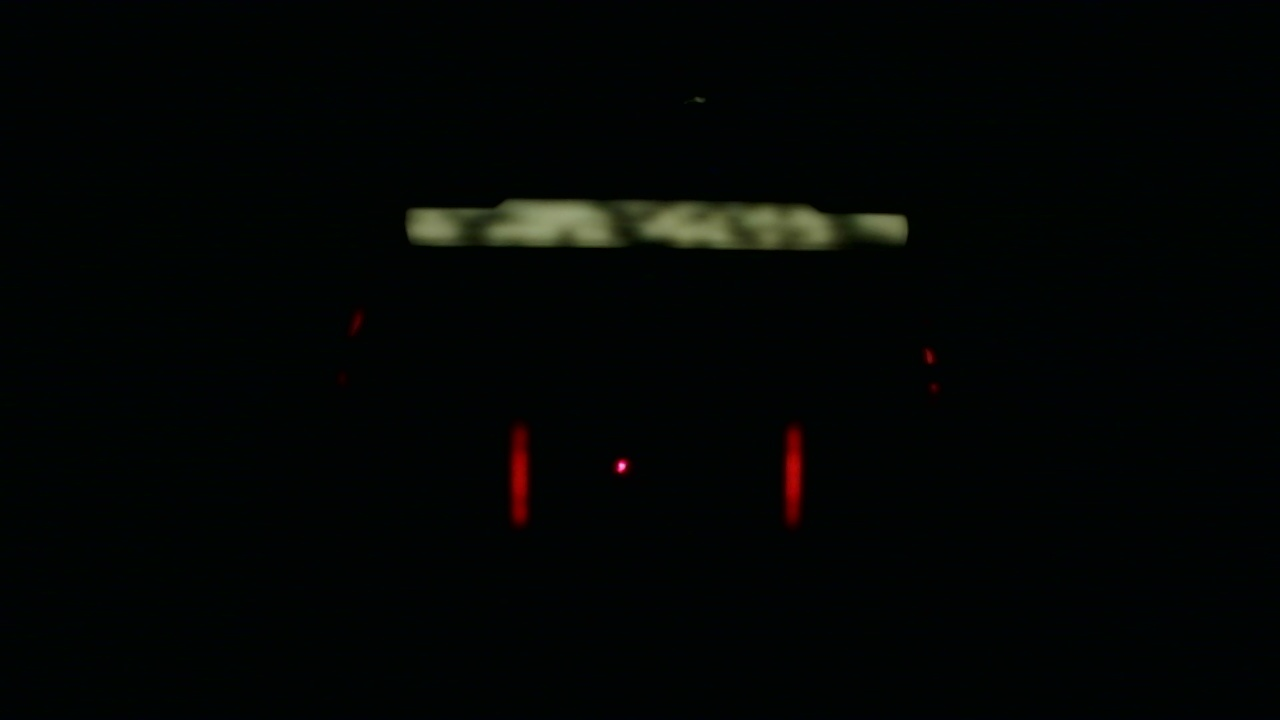lamp: (507, 419, 533, 523), (779, 423, 803, 524)
pair1: (509, 423, 804, 524)
